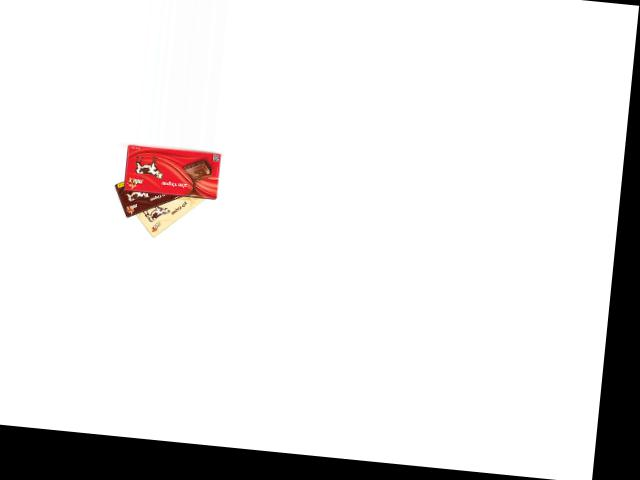chocolate: (123, 182, 214, 244)
